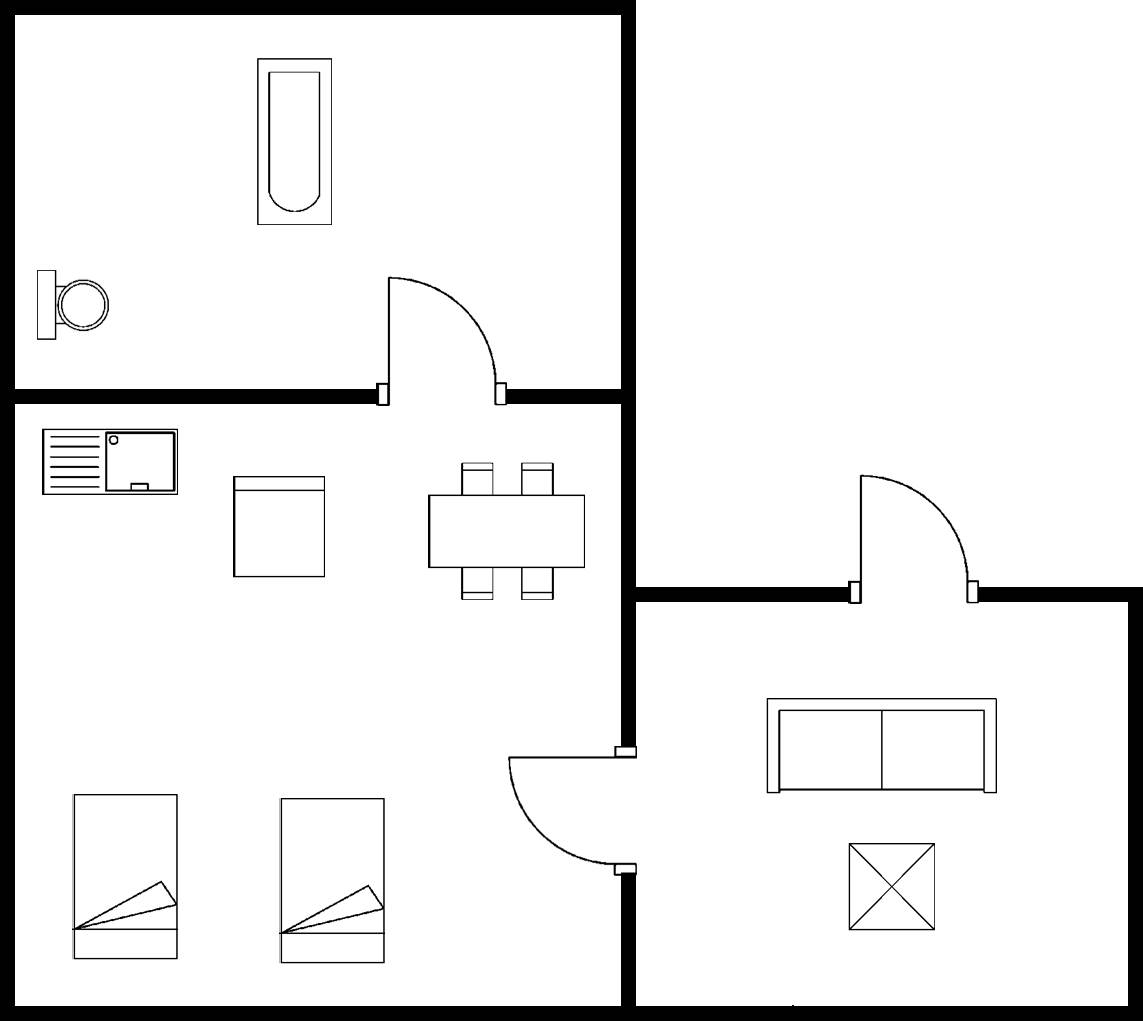bed: (275, 793, 391, 968), (70, 790, 184, 965)
coffee_table: (844, 838, 940, 939)
dining_table: (424, 456, 589, 606)
large_sink: (33, 267, 114, 350)
large_sofa: (760, 692, 1002, 800)
sink: (38, 424, 187, 502)
small_sofa: (228, 471, 328, 582)
tub: (253, 53, 338, 232)
